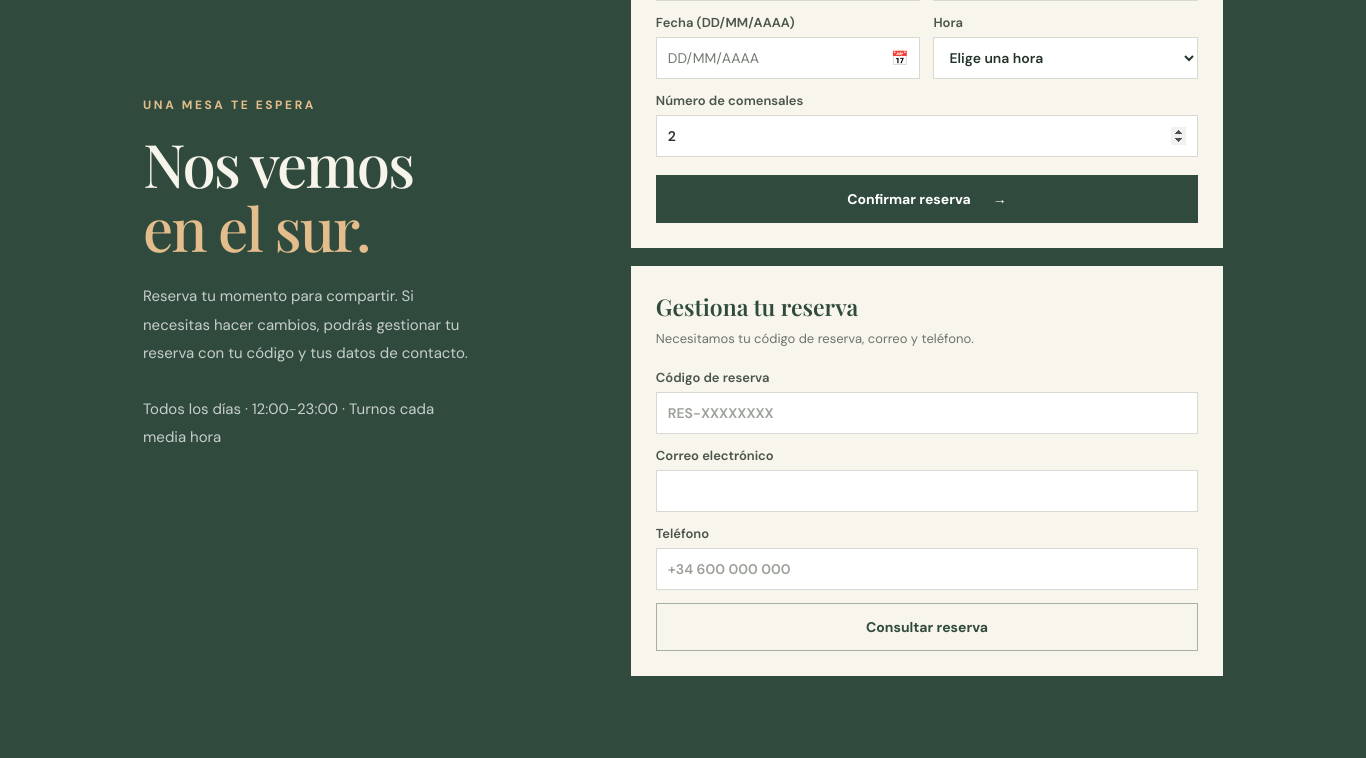
Test: ReservationSection › announces backend validation errors accessibly
(page scrolled)
Type "RES-MISSING" into the field labelled "Código de reserva".
click(927, 413); type("RES-MISSING")  # box [656,392,1198,434]
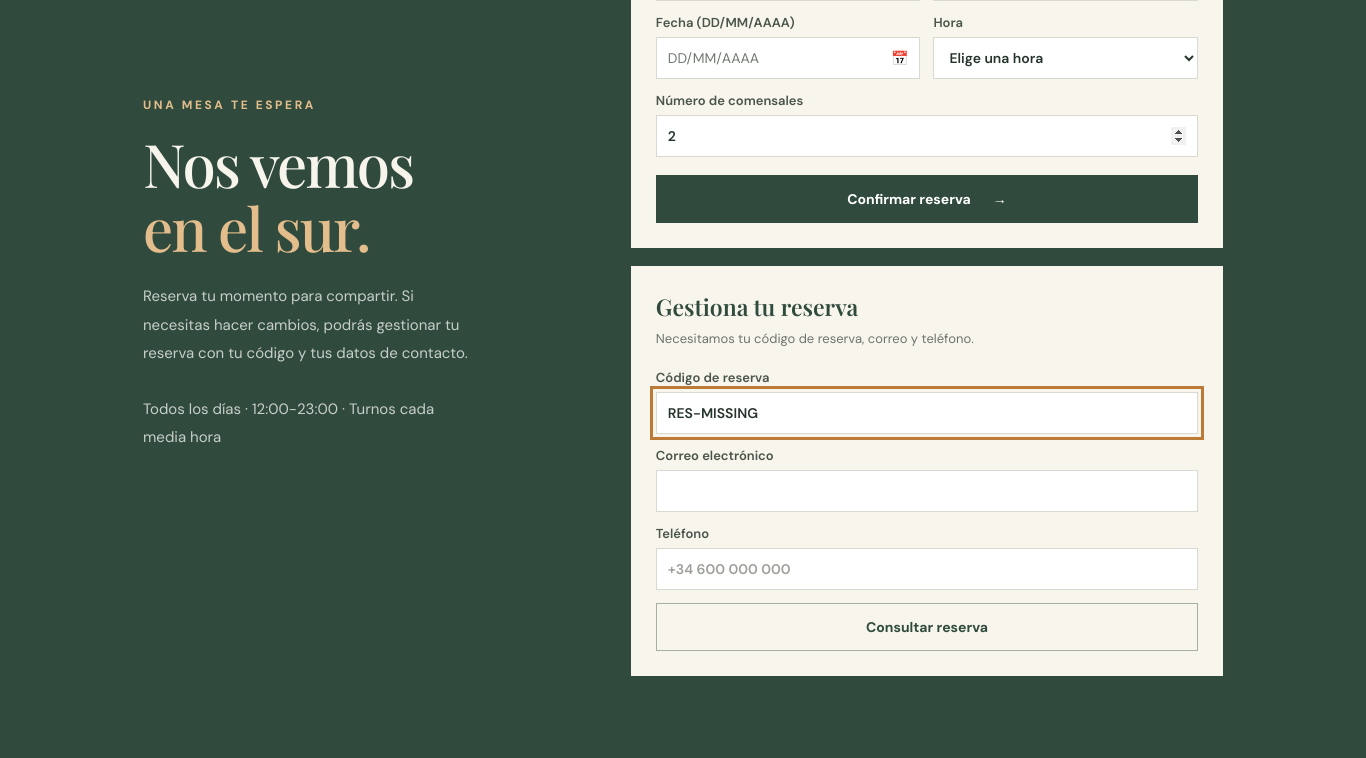
Type "ana@example.com" into the field named "email".
click(927, 491); type("ana@example.com")  # box [656,470,1198,512]
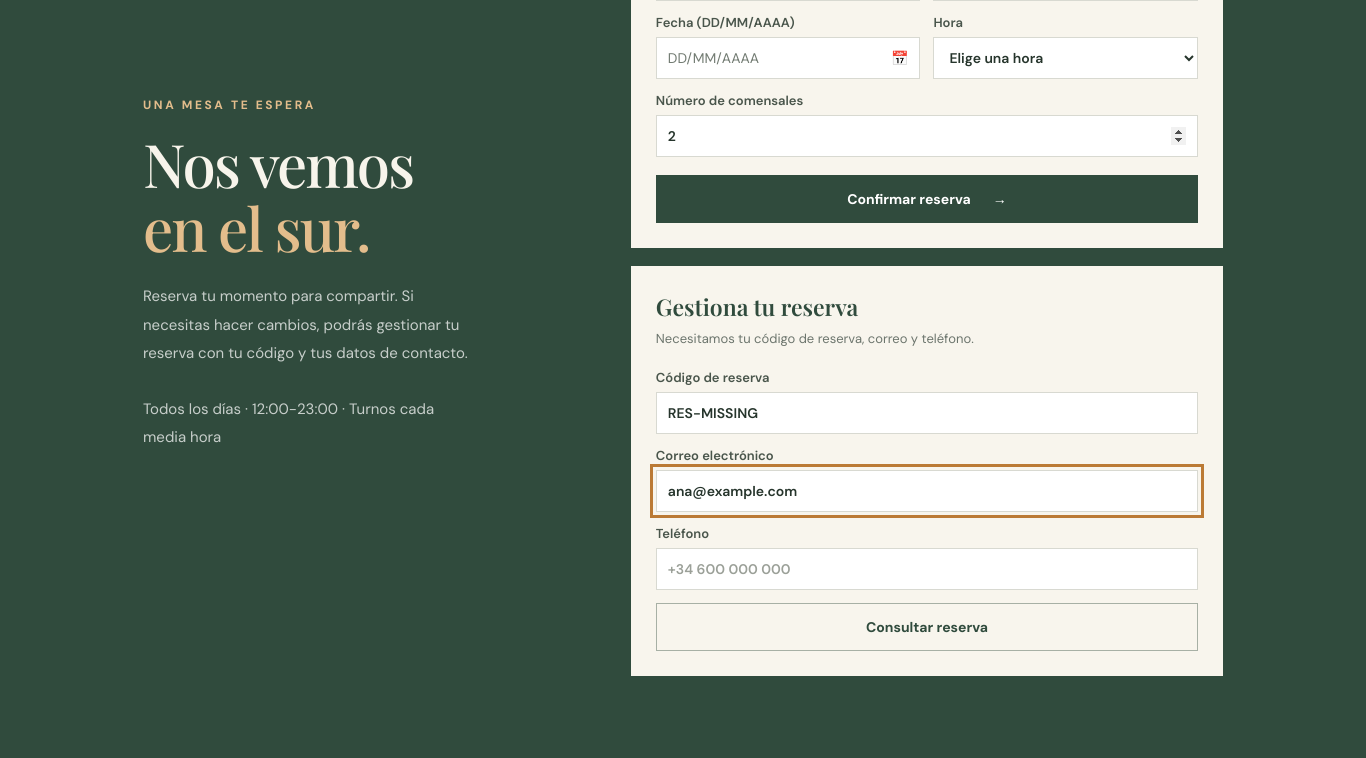
Type "+34612345678" into the field named "phone".
click(927, 569); type("+34612345678")  # box [656,548,1198,590]
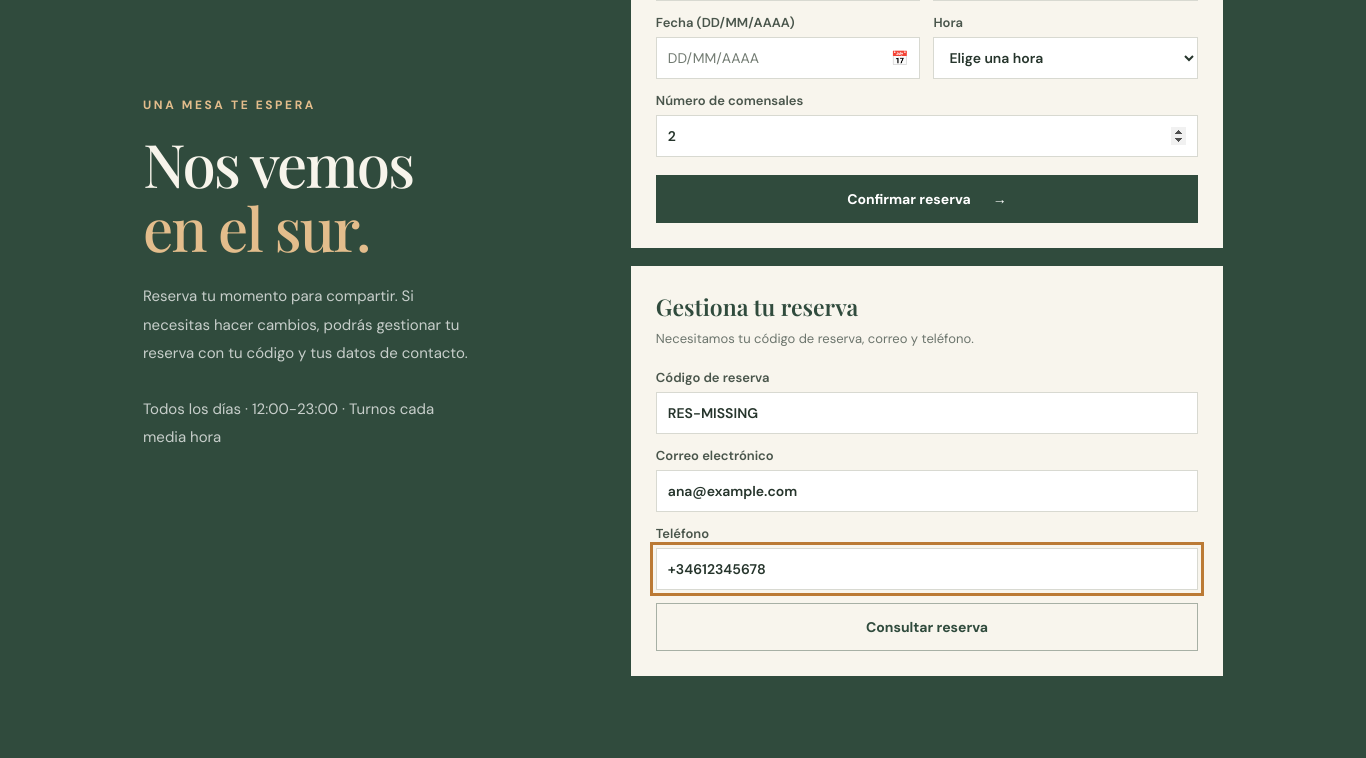
Click the button "Consultar reserva".
click(927, 627)  # box [656,603,1198,651]
(page scrolled)
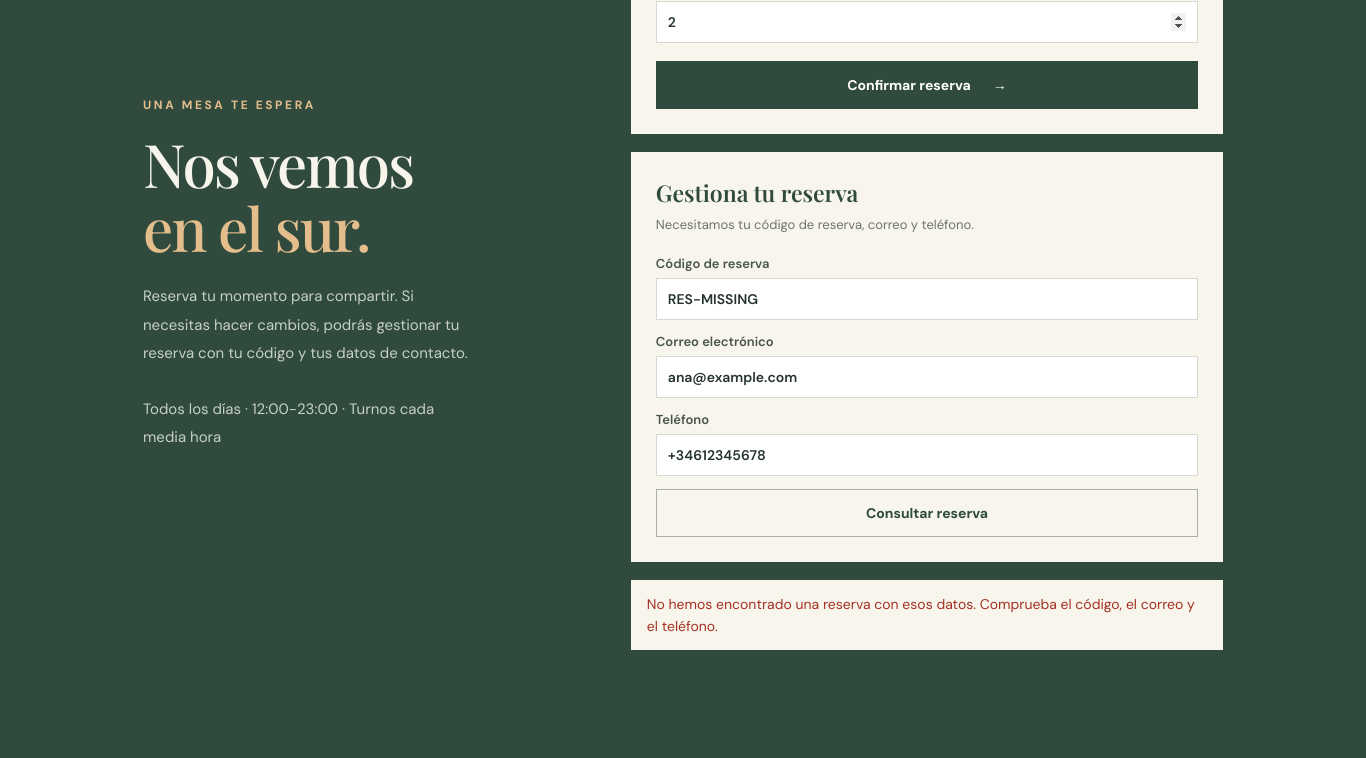
Expected: the message shows "No hemos encontrado una reserva", [647,595,1195,635]
